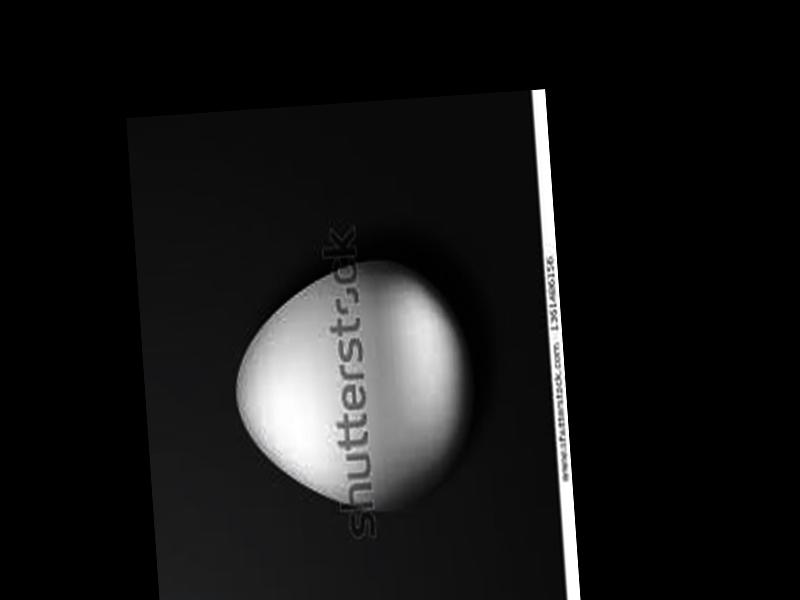Eggs: (225, 254, 480, 521)
